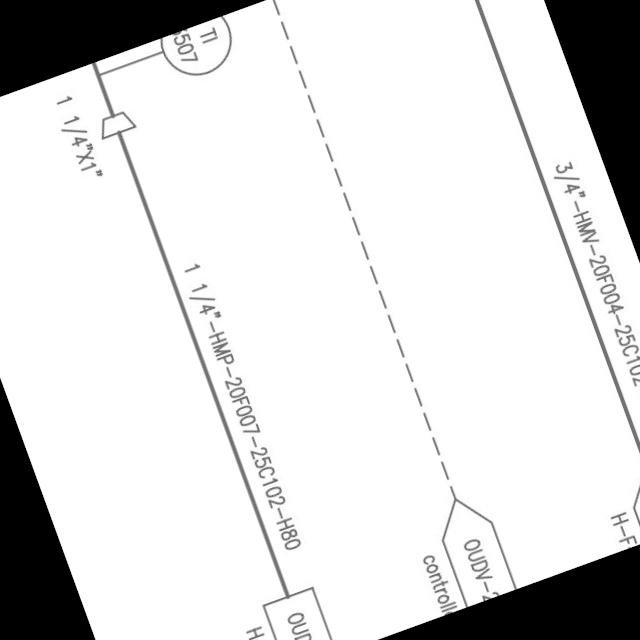SP: (92, 101, 144, 144)
